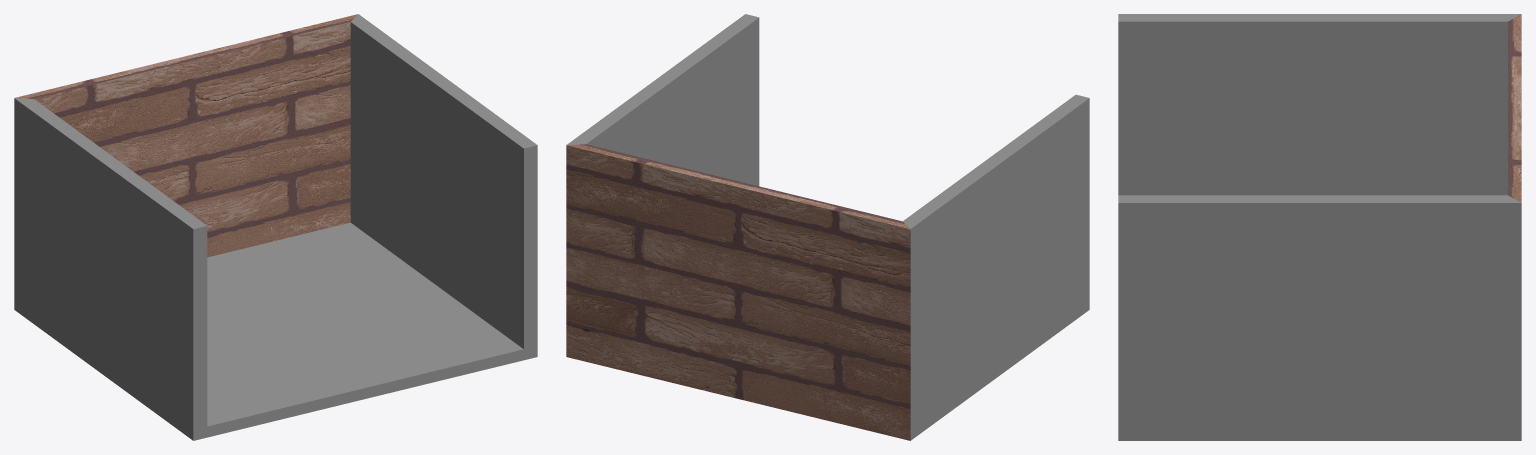
The model's file is room 1.FBX.
3 renders of one model, left to right at view 1: azimuth 30°, elevation 25°; view 2: azimuth 150°, elevation 25°; view 3: azimuth 270°, elevation 25°, orthographic. The views are drawn at different scales.
Visible parts, largest first — view 1: room; view 2: room; view 3: room.
Boxes of the visible parts, bbox=[...] form: room: bbox=[14, 14, 537, 440]; room: bbox=[566, 14, 1089, 440]; room: bbox=[1118, 14, 1521, 440].
Size of the model in its own units: 573 by 337 by 517.
